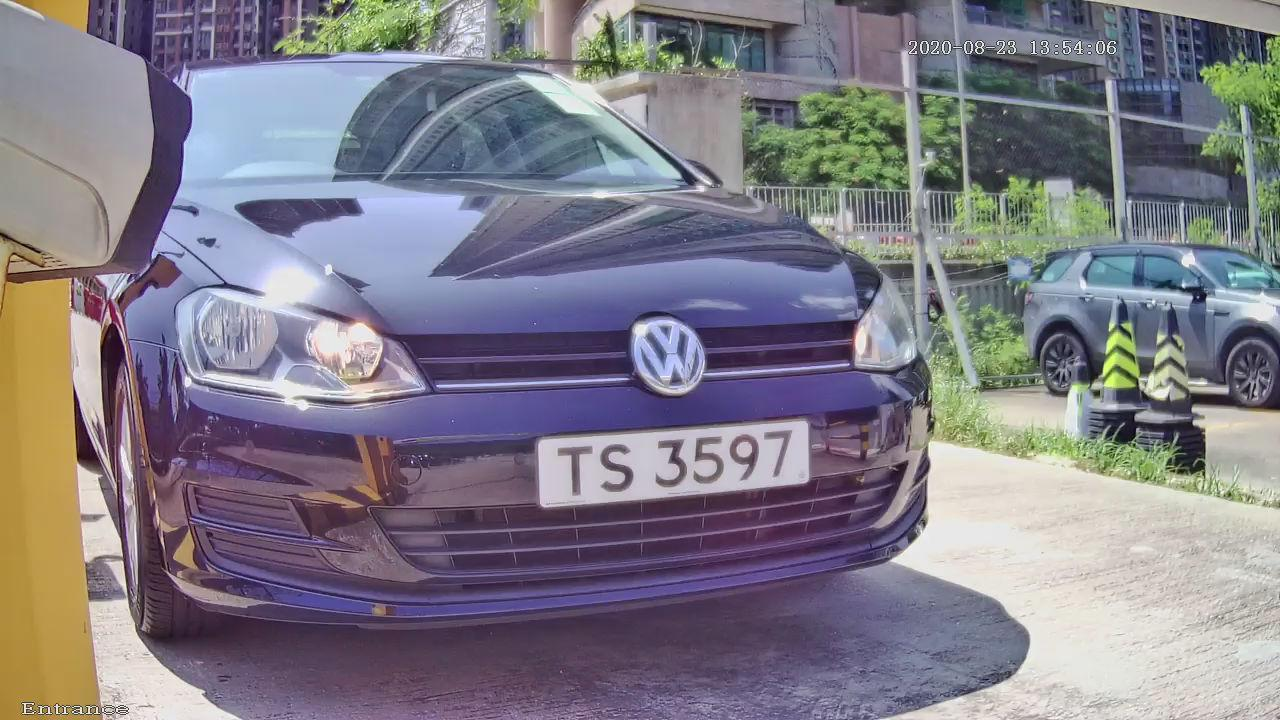Car: (29, 10, 1012, 695)
License Plate: (485, 364, 837, 551)
